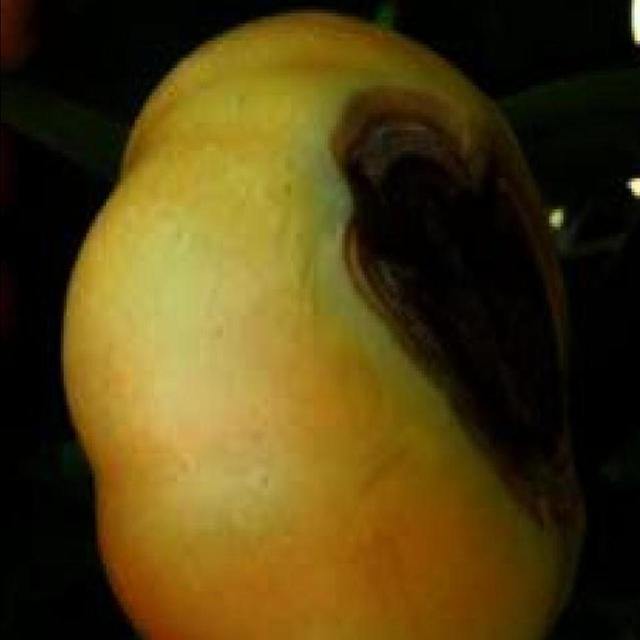Blossom End Rot Fruit: (218, 62, 383, 356)
